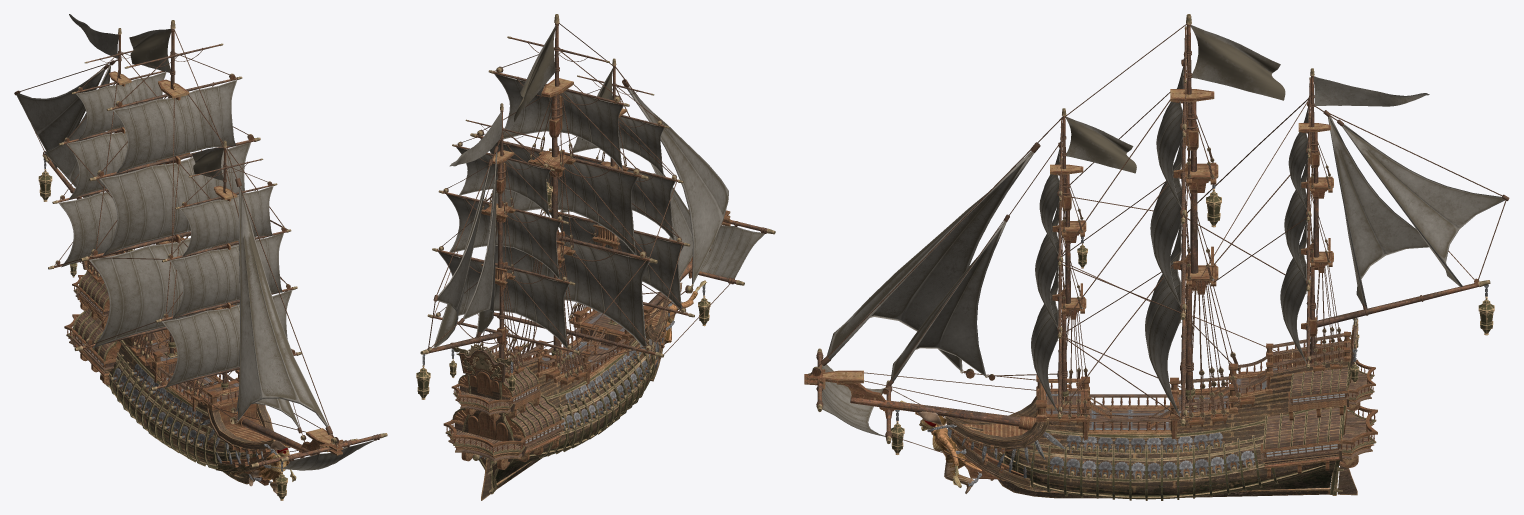
File: JCI54557851794.glb
The picture shows the model from 3 angles, left to right: view 1: azimuth 30°, elevation 25°; view 2: azimuth 150°, elevation 25°; view 3: azimuth 270°, elevation 25°; orthographic projection. The views are drawn at different scales.
Parts seen in each view (by area): view 1: 43cdb3b5-62e5-4509-92e2-805746662228, 3dc2319f-266d-47ee-a287-87e2726ba9a2, 5dfc2880-8e41-496b-b178-69383b70de1b, 4066bb04-814a-455c-9b36-f017eded9bf2, ceb44aa4-3002-4567-95d3-f766510e2869, 086333d5-370f-4b4d-9496-945686c6ca90, f8afc5e9-e39a-4830-8bbd-3663d6773e66; view 2: 43cdb3b5-62e5-4509-92e2-805746662228, 3dc2319f-266d-47ee-a287-87e2726ba9a2, 086333d5-370f-4b4d-9496-945686c6ca90, 5dfc2880-8e41-496b-b178-69383b70de1b, 4066bb04-814a-455c-9b36-f017eded9bf2, ceb44aa4-3002-4567-95d3-f766510e2869, f8afc5e9-e39a-4830-8bbd-3663d6773e66, f37aa0a2-a9dd-4db5-b7ad-396181ad2608; view 3: 43cdb3b5-62e5-4509-92e2-805746662228, 3dc2319f-266d-47ee-a287-87e2726ba9a2, 5dfc2880-8e41-496b-b178-69383b70de1b, ceb44aa4-3002-4567-95d3-f766510e2869, 086333d5-370f-4b4d-9496-945686c6ca90, f8afc5e9-e39a-4830-8bbd-3663d6773e66, 4066bb04-814a-455c-9b36-f017eded9bf2, f37aa0a2-a9dd-4db5-b7ad-396181ad2608.
Boxes of the visible parts, x1,y1,x2,y2 form: 43cdb3b5-62e5-4509-92e2-805746662228: (16,14,379,500); 3dc2319f-266d-47ee-a287-87e2726ba9a2: (14,20,387,483); 5dfc2880-8e41-496b-b178-69383b70de1b: (45,73,337,484); 4066bb04-814a-455c-9b36-f017eded9bf2: (54,44,297,493); ceb44aa4-3002-4567-95d3-f766510e2869: (73,265,258,476); 086333d5-370f-4b4d-9496-945686c6ca90: (43,29,350,467); f8afc5e9-e39a-4830-8bbd-3663d6773e66: (48,71,338,485); 43cdb3b5-62e5-4509-92e2-805746662228: (416,25,767,399); 3dc2319f-266d-47ee-a287-87e2726ba9a2: (420,14,775,500); 086333d5-370f-4b4d-9496-945686c6ca90: (422,24,743,461); 5dfc2880-8e41-496b-b178-69383b70de1b: (428,67,693,489); 4066bb04-814a-455c-9b36-f017eded9bf2: (433,37,697,441); ceb44aa4-3002-4567-95d3-f766510e2869: (450,310,654,482); f8afc5e9-e39a-4830-8bbd-3663d6773e66: (427,257,692,456); f37aa0a2-a9dd-4db5-b7ad-396181ad2608: (446,309,622,453); 43cdb3b5-62e5-4509-92e2-805746662228: (812,25,1504,454); 3dc2319f-266d-47ee-a287-87e2726ba9a2: (804,14,1509,495); 5dfc2880-8e41-496b-b178-69383b70de1b: (812,60,1351,500); ceb44aa4-3002-4567-95d3-f766510e2869: (997,347,1369,497); 086333d5-370f-4b4d-9496-945686c6ca90: (864,24,1488,478); f8afc5e9-e39a-4830-8bbd-3663d6773e66: (813,60,1478,479); 4066bb04-814a-455c-9b36-f017eded9bf2: (915,28,1351,493); f37aa0a2-a9dd-4db5-b7ad-396181ad2608: (1069,337,1375,450).
Bounding box in the file's own units: 1246 × 2478 × 3282.
Materials: 4 (4 with a texture image).
